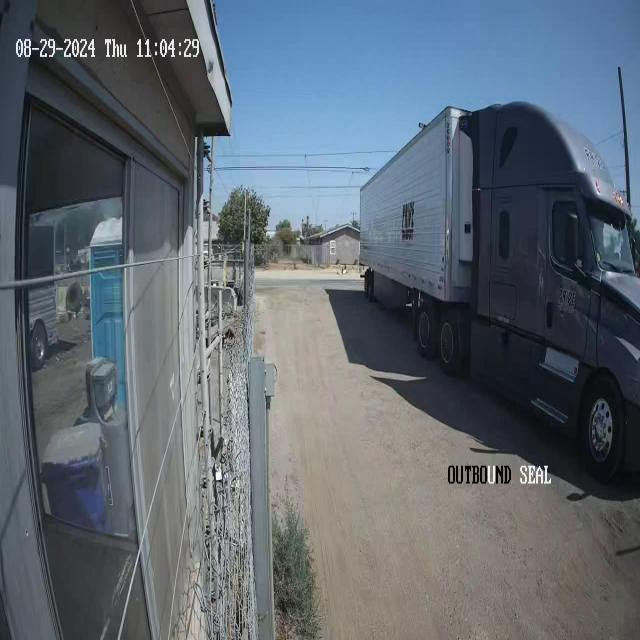TRUCK_IN: (358, 99, 639, 484)
